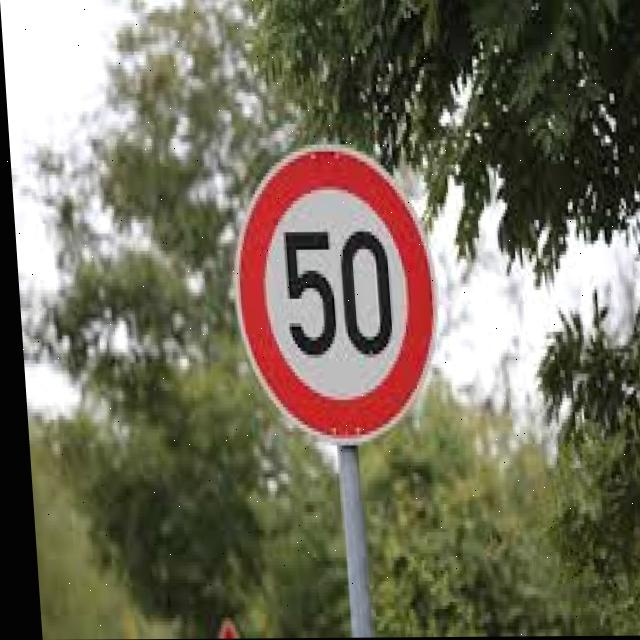Speed limit 50: (220, 142, 441, 448)
